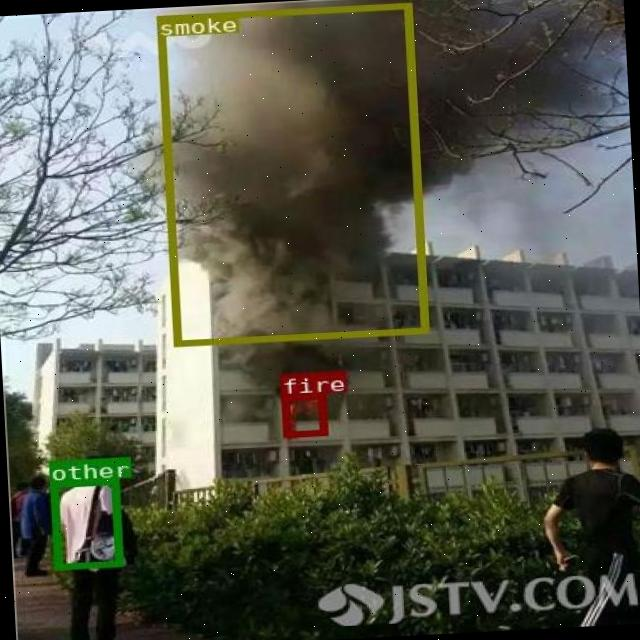fire: (280, 393, 325, 436)
smoke: (156, 2, 428, 345)
